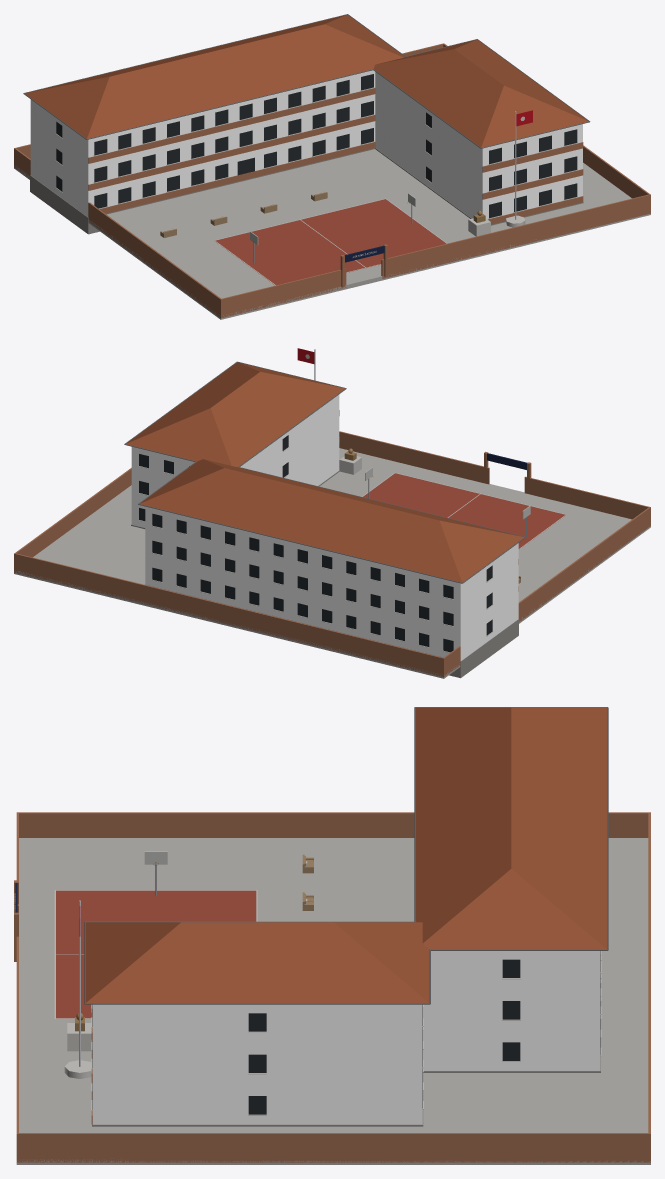
The model's file is bina_17.glb.
The picture shows the model from 3 angles, top to bottom: view 1: azimuth 30°, elevation 25°; view 2: azimuth 150°, elevation 25°; view 3: azimuth 270°, elevation 25°; orthographic projection. The views are drawn at different scales.
Parts seen in each view (by area): view 1: P17_Okul_L1.001; view 2: P17_Okul_L1.001; view 3: P17_Okul_L1.001.
Boxes of the visible parts, box(x1,y1,x2,y2) form: P17_Okul_L1.001: box(14, 14, 650, 319); P17_Okul_L1.001: box(14, 348, 650, 678); P17_Okul_L1.001: box(14, 707, 650, 1164).
Bounding box in the file's own units: 60.66 × 17 × 50.2.
